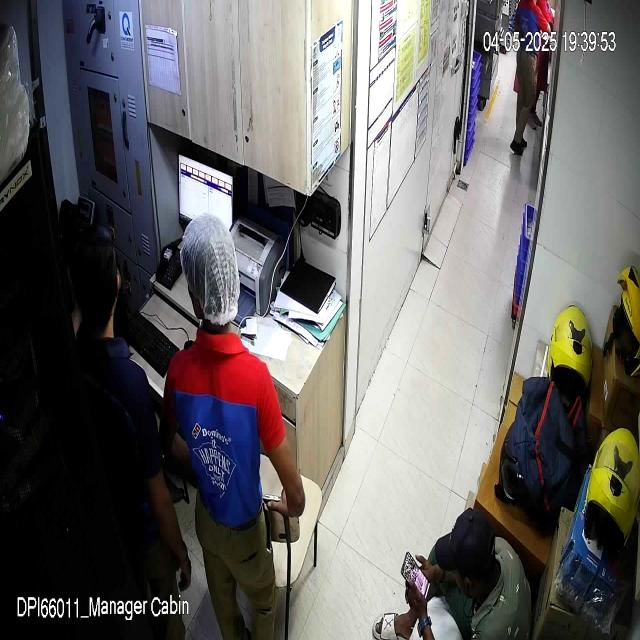helmet: (584, 434, 639, 546), (547, 304, 592, 385), (614, 268, 640, 376)
